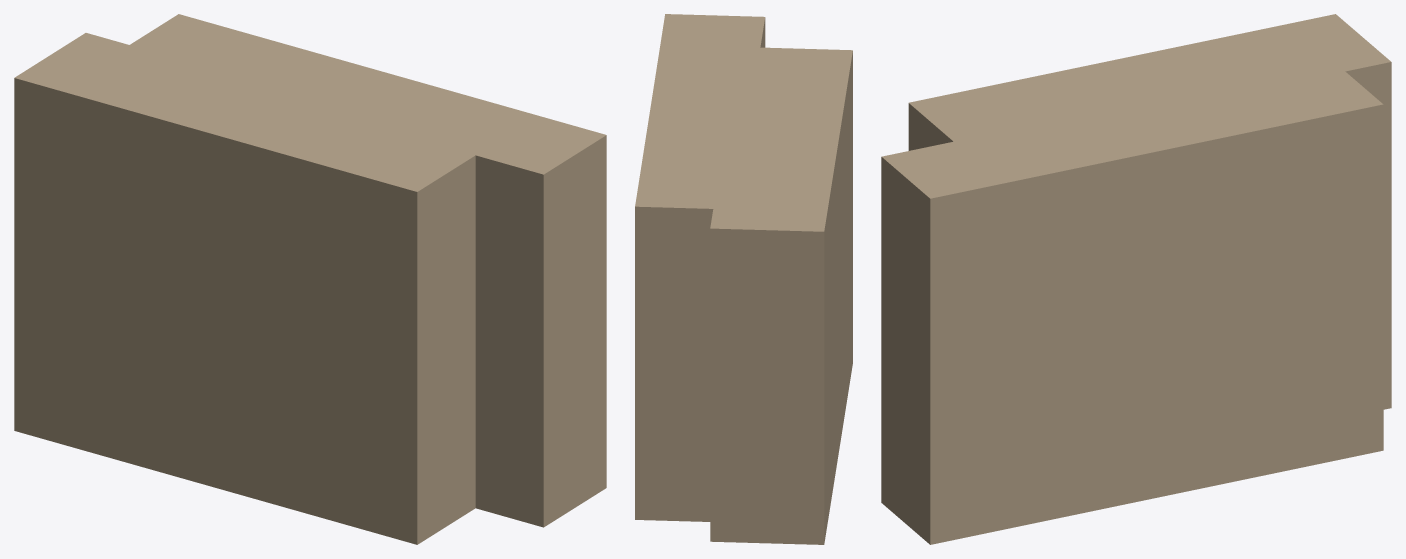
The model's file is bld_106415341.dae.
The picture shows the model from 3 angles, left to right: view 1: azimuth 30°, elevation 25°; view 2: azimuth 150°, elevation 25°; view 3: azimuth 270°, elevation 25°; orthographic projection. The views are drawn at different scales.
Parts seen in each view (by area): view 1: bld_106415341; view 2: bld_106415341; view 3: bld_106415341.
Part boxes in pixels (box(x1,y1,x2,y2)): bld_106415341: box(14, 14, 606, 544); bld_106415341: box(635, 14, 852, 544); bld_106415341: box(881, 14, 1391, 544).
Bounding box in the file's own units: 9.15 × 10.68 × 8.
